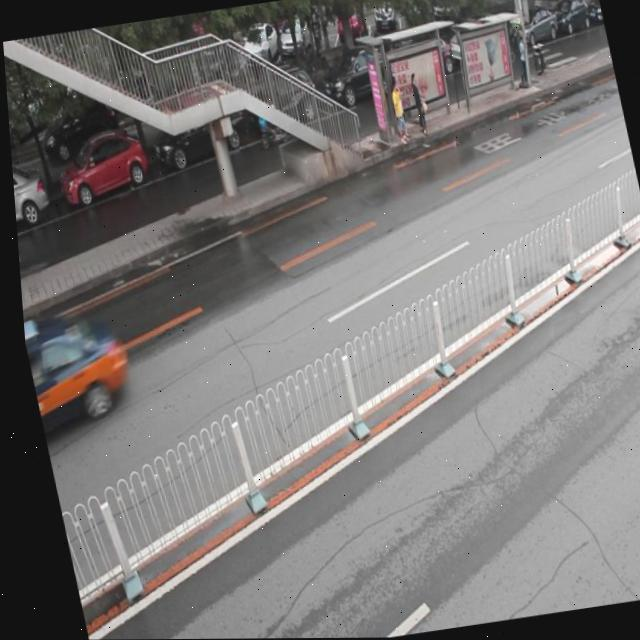car: (18, 303, 135, 444), (50, 128, 155, 211), (145, 98, 248, 175), (240, 66, 324, 141), (315, 42, 400, 113), (10, 165, 53, 235)
